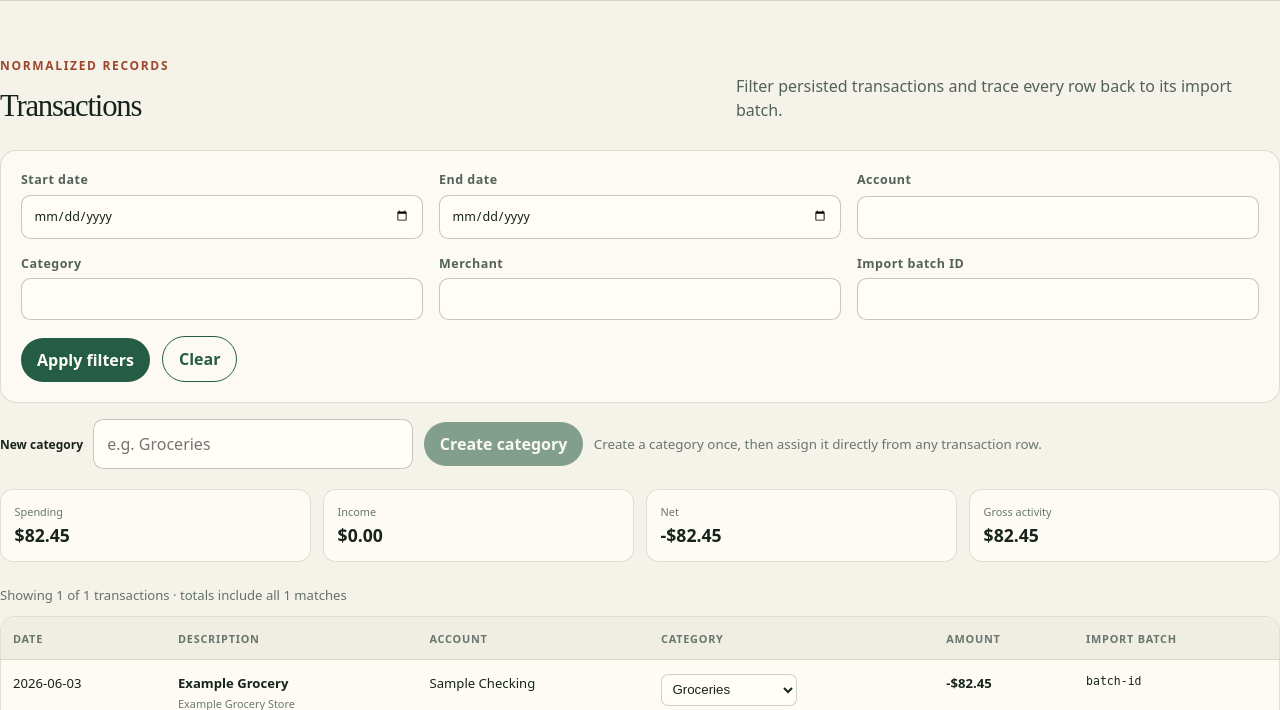
TransactionExplorer › assigns a category and refreshes current provenance
The image size is (1280, 710).
Expected: the text "Example Grocery" is shown, [178, 674, 288, 692]
Select "Home" in the dropdown named "Category for Example Grocery": (729, 690) [661, 674, 797, 706]
(page scrolled)
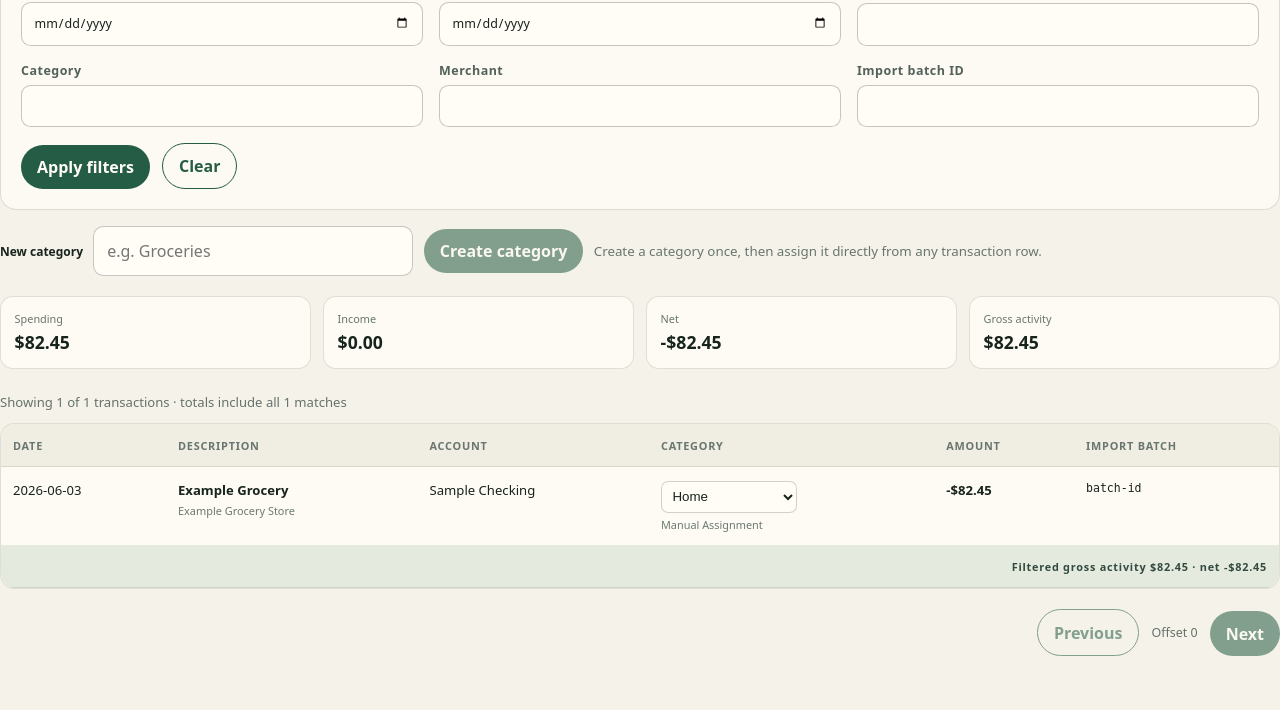
Now the text "manual assignment" is shown, box [661, 517, 763, 532]
